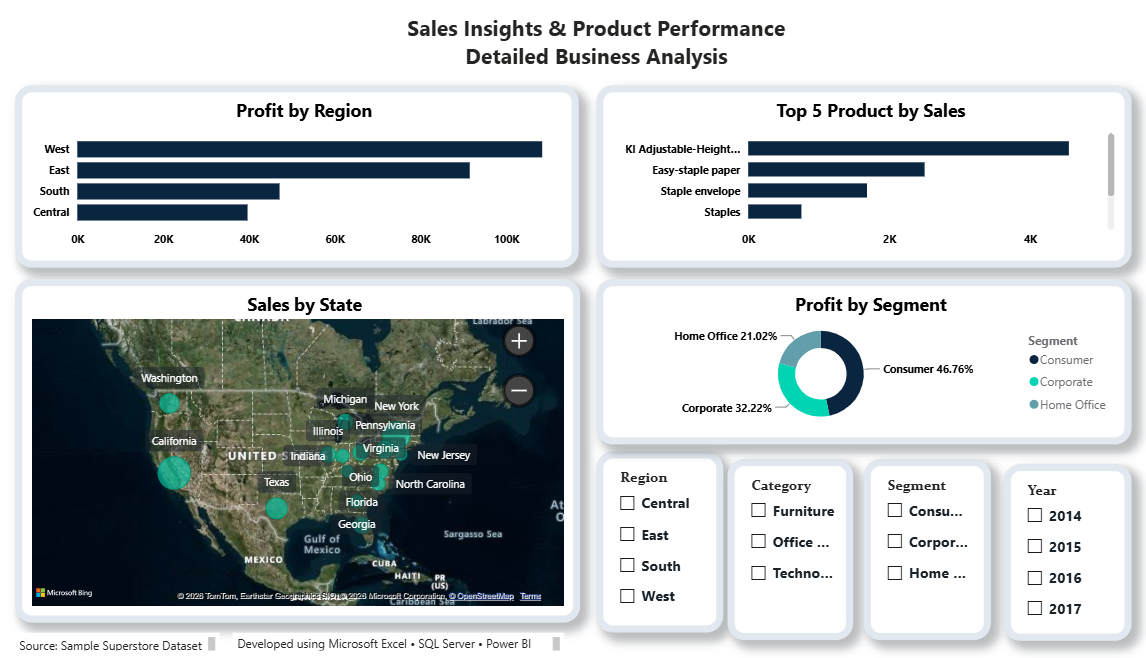

The page's visual inventory and layout, read from the dashboard file:
{"tool":"powerbi","page":{"name":"Page 2","canvas":[1292,748],"ordinal":1},"visuals":[{"type":"textbox","box":[383.5,11.3,577.8,85.2],"z":0},{"type":"clusteredBarChart","title":"Profit by Region","fields":{"Category":["Superstore.Region"],"Y":["Sum(Superstore.Profit)"]},"box":[16.3,96.5,635.5,205.6],"z":1000},{"type":"clusteredBarChart","title":"Top 5 Product by Sales","fields":{"Category":["Superstore.Product_Name"],"Y":["Sum(Superstore.Sales)"]},"box":[671.8,96.5,602.9,205.6],"z":2000},{"type":"map","title":" Sales by State","fields":{"Category":["Superstore.State"],"Size":["Sum(Superstore.Sales)"]},"box":[16.3,315.8,636.7,387.3],"z":3000},{"type":"slicer","fields":{"Values":["Superstore.Region"]},"box":[671.8,510.1,142.9,204.3],"z":4000},{"type":"slicer","fields":{"Values":["Superstore.Category"]},"box":[819.7,518.9,141.6,204.3],"z":5000},{"type":"slicer","fields":{"Values":["Superstore.Segment"]},"box":[973.9,518.9,142.9,204.3],"z":6000},{"type":"slicer","fields":{"Values":["Superstore.Order_Date.Variation.Date Hierarchy.Year"]},"box":[1130.5,523.9,144.1,199.3],"z":7000},{"type":"donutChart","title":" Profit by Segment","fields":{"Y":["Sum(Superstore.Profit)"],"Category":["Superstore.Segment"]},"box":[671.8,315.8,602.9,186.8],"z":8000},{"type":"textbox","box":[16.3,714.4,230.6,25.1],"z":8001},{"type":"textbox","box":[262,714.4,373.5,25.1],"z":8002}]}

Visuals, with their boxes in screenshot pixels (x1, y1, x2, y2), scaled from the page's 1292x748 canvas onto the 1146x658 screenshot:
textbox: 340/10/853/85
"Profit by Region" clusteredBarChart: 14/85/578/266
"Top 5 Product by Sales" clusteredBarChart: 596/85/1131/266
" Sales by State" map: 14/278/579/619
slicer - Superstore.Region: 596/449/723/628
slicer - Superstore.Category: 727/456/853/636
slicer - Superstore.Segment: 864/456/991/636
slicer - Superstore.Order_Date.Variation.Date Hierarchy.Year: 1003/461/1131/636
" Profit by Segment" donutChart: 596/278/1131/442
textbox: 14/628/219/651
textbox: 232/628/564/651
